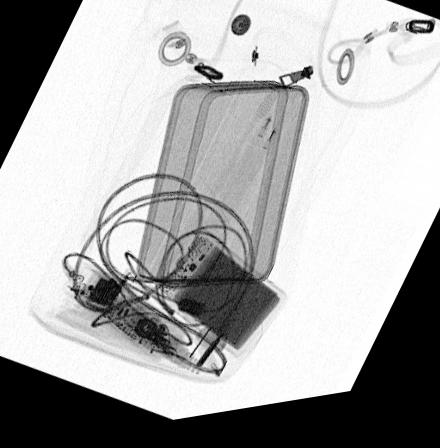Powerbank: (145, 235, 287, 368)
